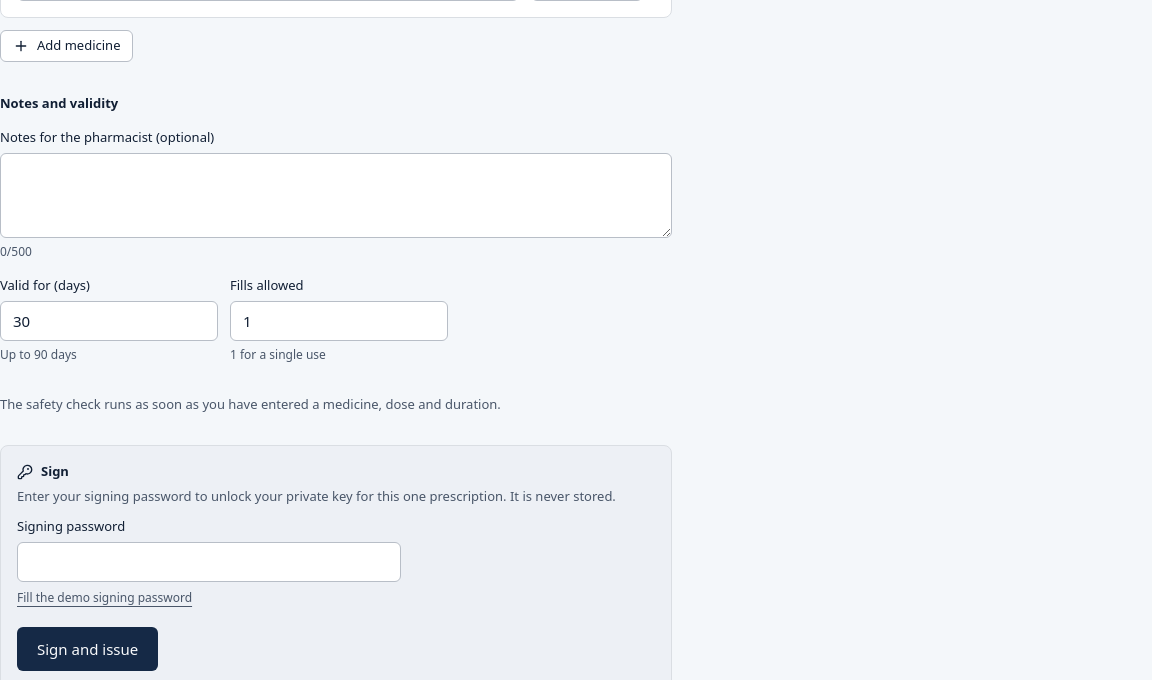
Test: New prescription: safety check › limits controlled medicines to one fill in the form and explains why
(page scrolled)
Replace the text in the number field labelled "Fills allowed" with "3" at (339, 321), box 230,301 -> 448,341
(page scrolled)
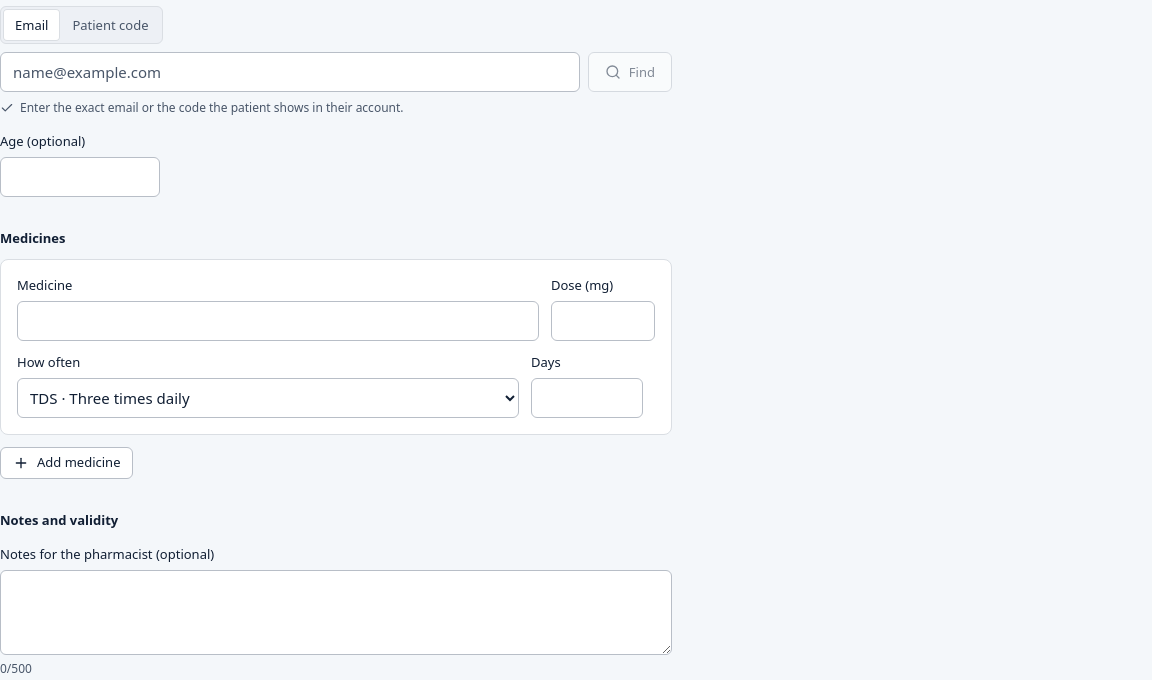
Type "Tramadol" into the field labelled "Medicine" at (278, 321), box 17,301 -> 539,341
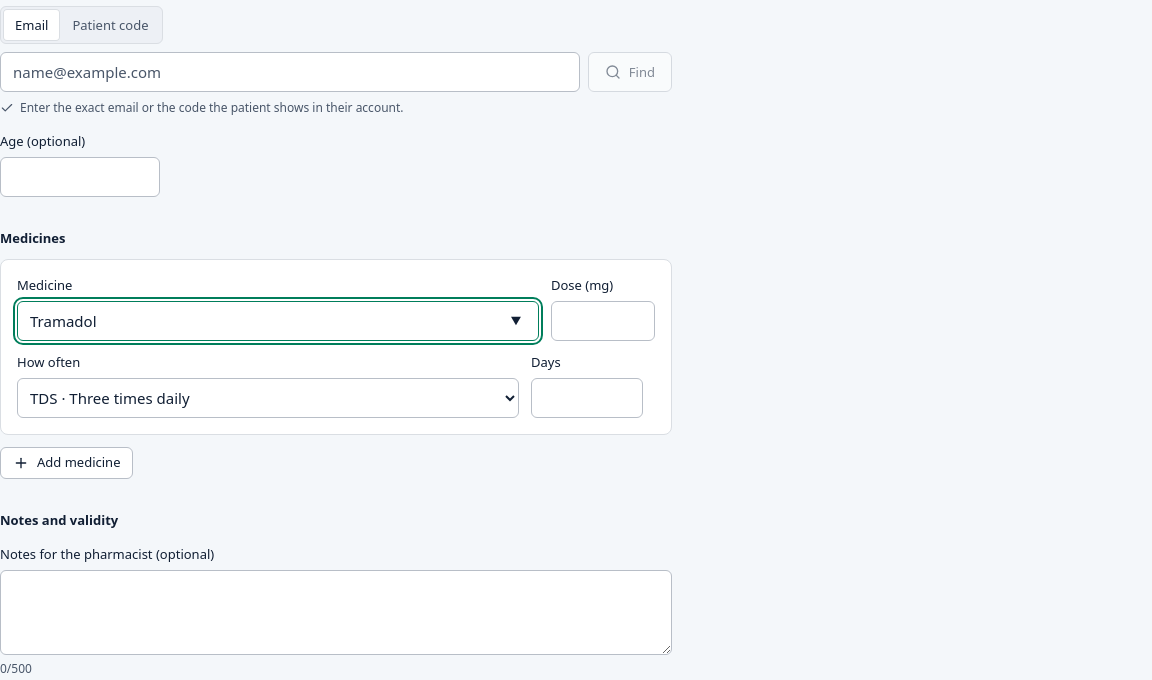
Type "50" into the number field labelled "Dose (mg)" at (603, 321), box 551,301 -> 655,341
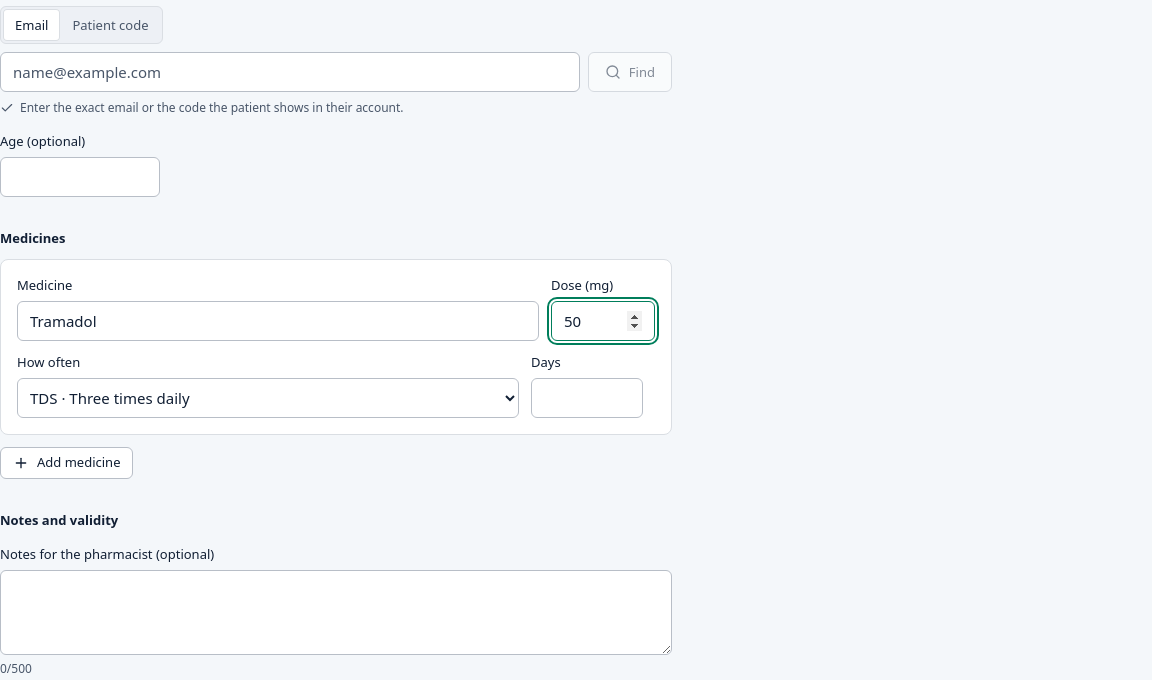
Type "5" into the number field labelled "Days" at (587, 398), box 531,378 -> 643,418
(page scrolled)
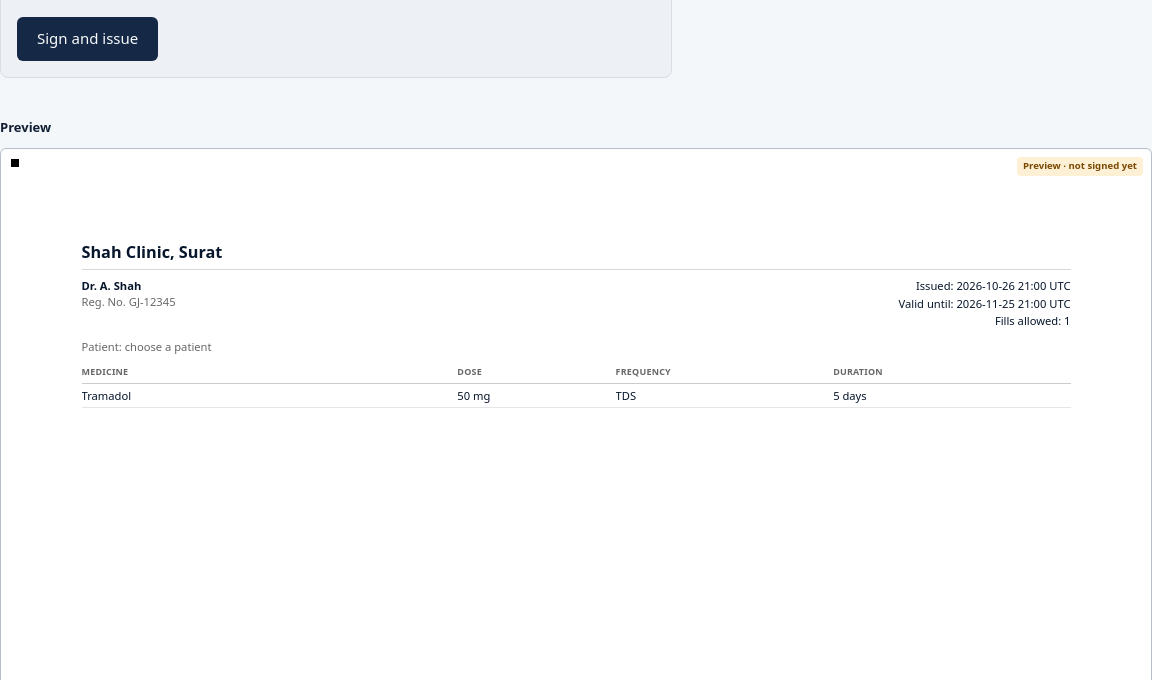
Expected: the text "Fills allowed: 1" is shown, 995,313 -> 1070,328
